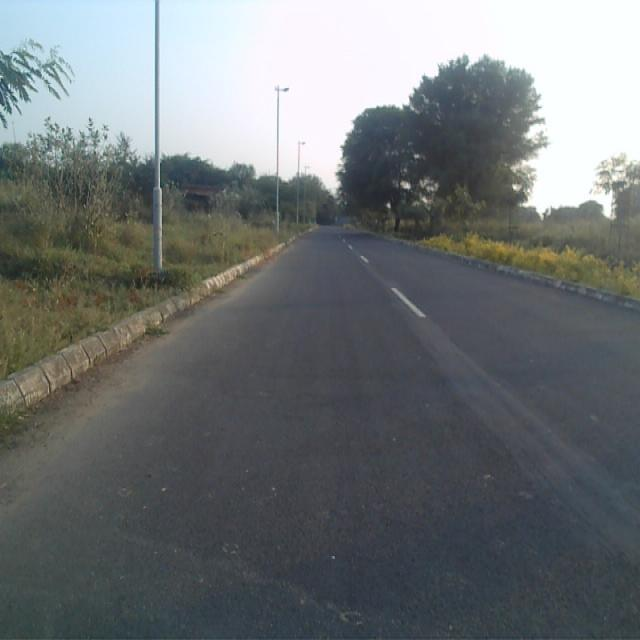lane: (0, 233, 640, 640)
